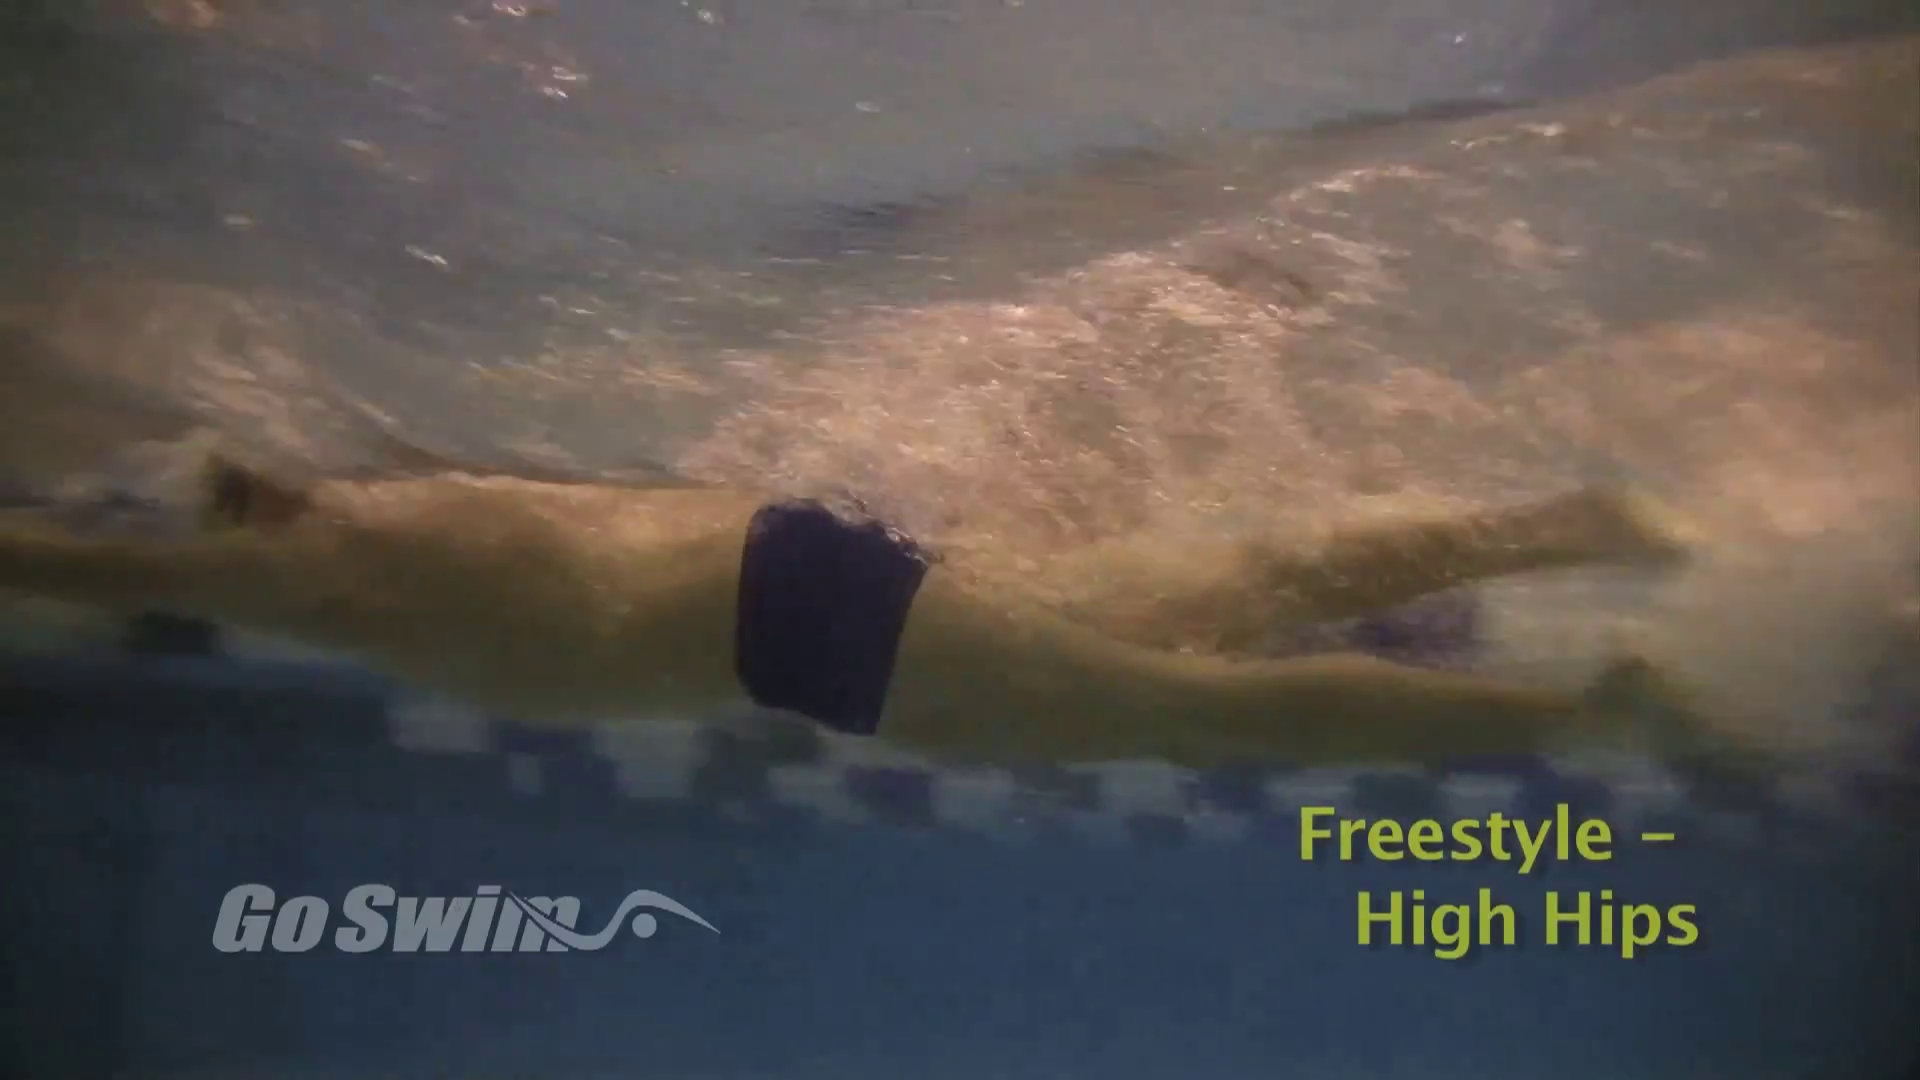person: (1, 438, 1776, 784)
